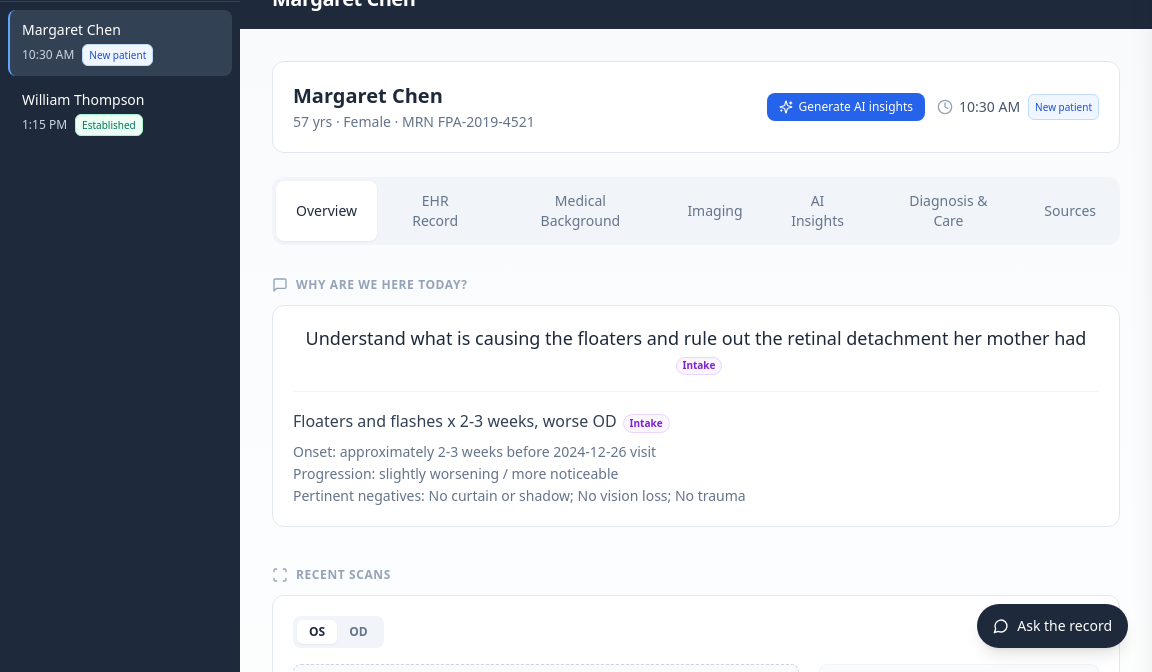
Test case: App landing (deterministic overview) › renders the Diagnosis & Care tab deterministically from the overview care_plan
What coordinates should you click on to do the following:
click the tab "Diagnosis & Care"
I would click on:
 (948, 210)
Its box is [872,180,1024,240].
(page scrolled)
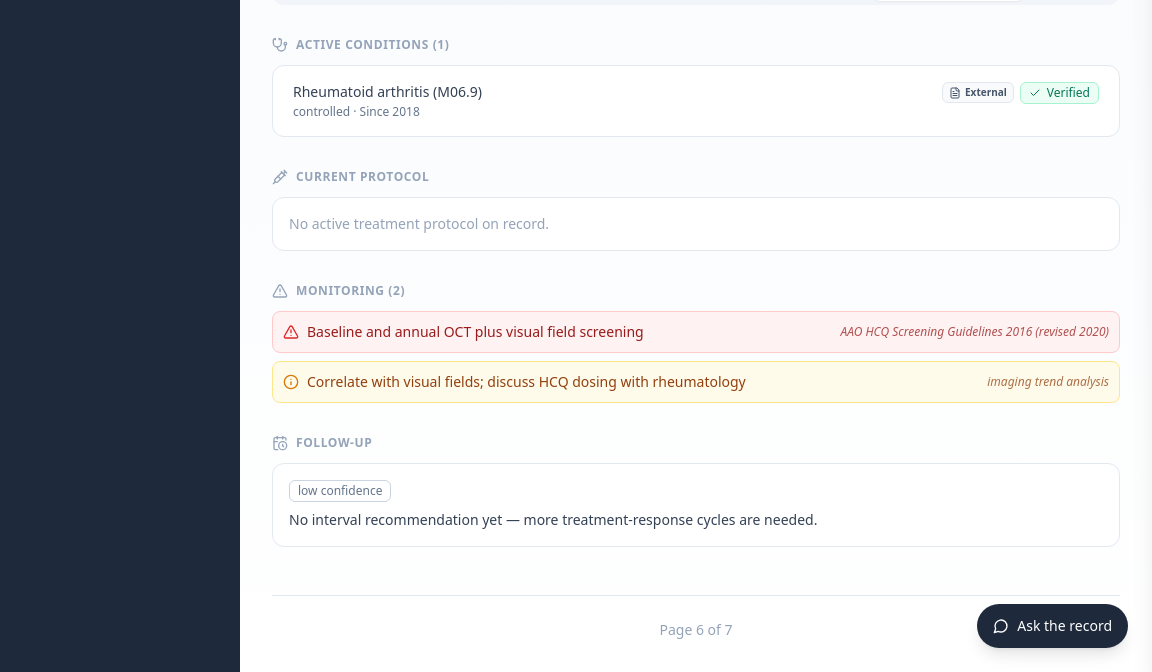
Expected: the heading "Active Conditions (1)" is shown, [272,36,450,52]
Expected: the text "Rheumatoid arthritis (M06.9)" is shown, [293,82,482,102]
Expected: the text "No active treatment protocol on record." is shown, [289,214,549,232]
